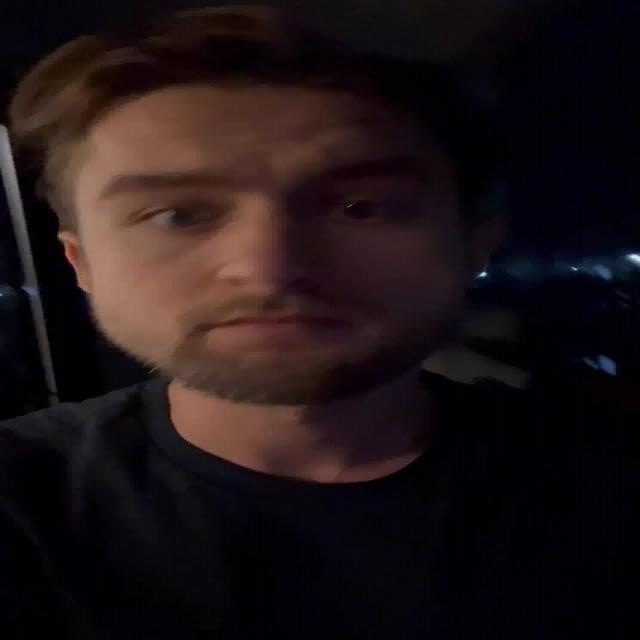earlobe: (459, 211, 509, 286), (55, 230, 93, 294)
